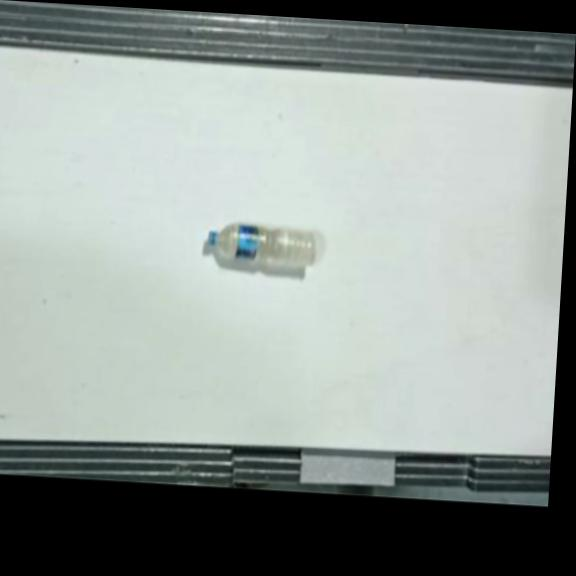Plastik: (206, 220, 327, 270)
